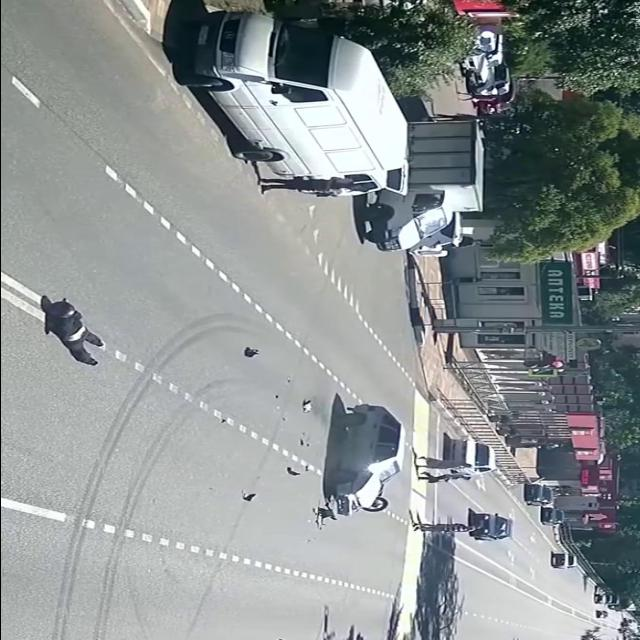accident: (234, 389, 409, 533), (4, 281, 132, 380)
non_accident: (166, 1, 500, 267), (411, 437, 505, 490), (407, 510, 517, 546)
